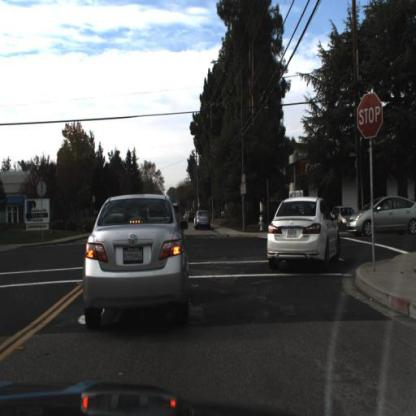car: (82, 191, 186, 338), (265, 195, 342, 274), (342, 197, 416, 237), (194, 207, 213, 233)
